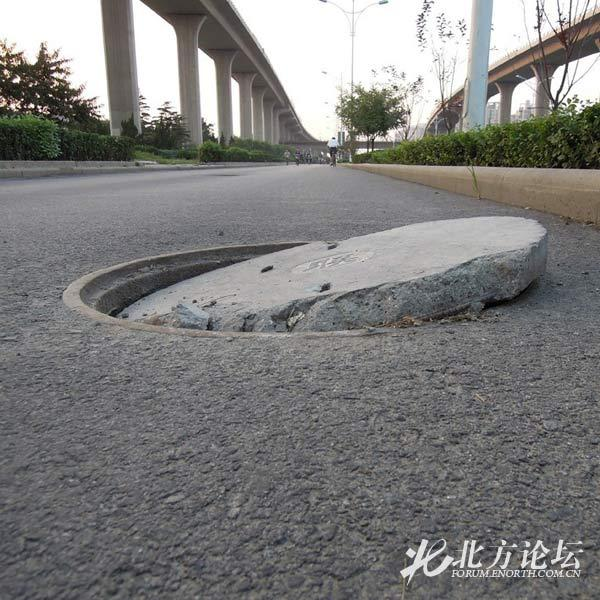wellcover: (47, 189, 578, 367)
